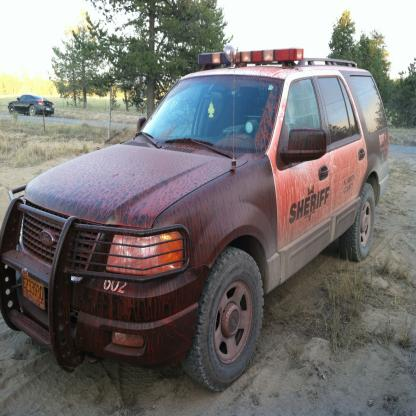Car: (1, 46, 390, 392)
